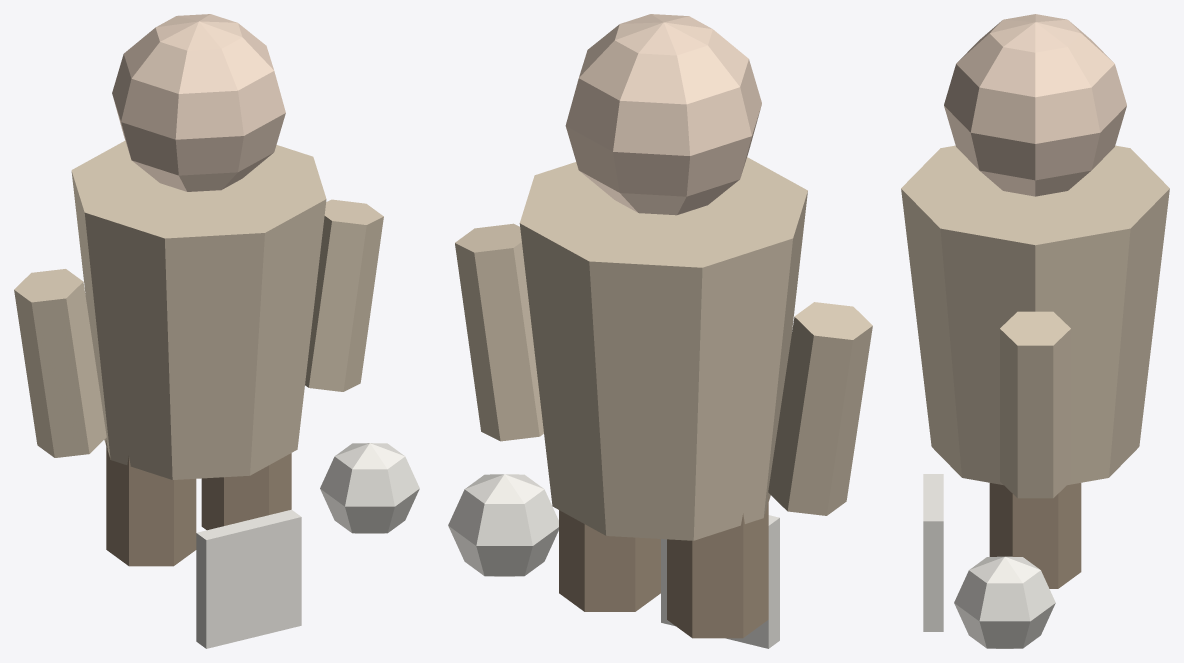
File: miller.glb
3 renders of one model, left to right at view 1: azimuth 30°, elevation 25°; view 2: azimuth 150°, elevation 25°; view 3: azimuth 270°, elevation 25°, orthographic. The views are drawn at different scales.
Visible parts, largest first — view 1: miller; view 2: miller; view 3: miller.
Boxes of the visible parts, x1=… form: miller: x1=14, y1=14, x2=419, y2=648; miller: x1=448, y1=14, x2=872, y2=648; miller: x1=901, y1=14, x2=1169, y2=648.
Bounding box in the file's own units: 0.4267 × 0.635 × 0.264.
